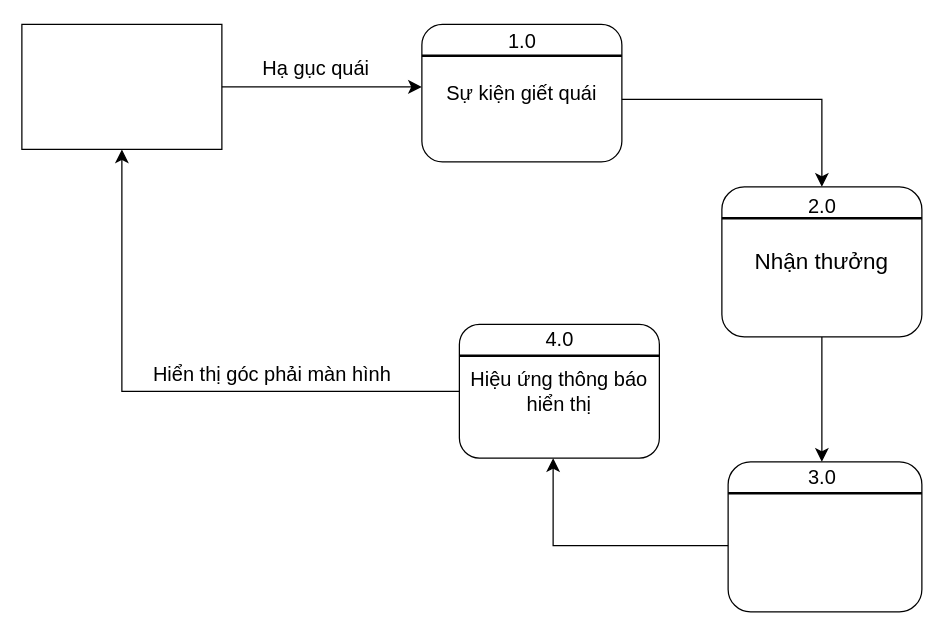
This 945x634 diagram has some shape labels left out. The shapes that lost their labels are listed below. From the top down, each one's box as (x1, y1, x2, y2) in pixels, then its label:
(21, 23, 222, 149): Người chơi
(727, 461, 922, 612): Hệ thống game (xác định số vàng)
